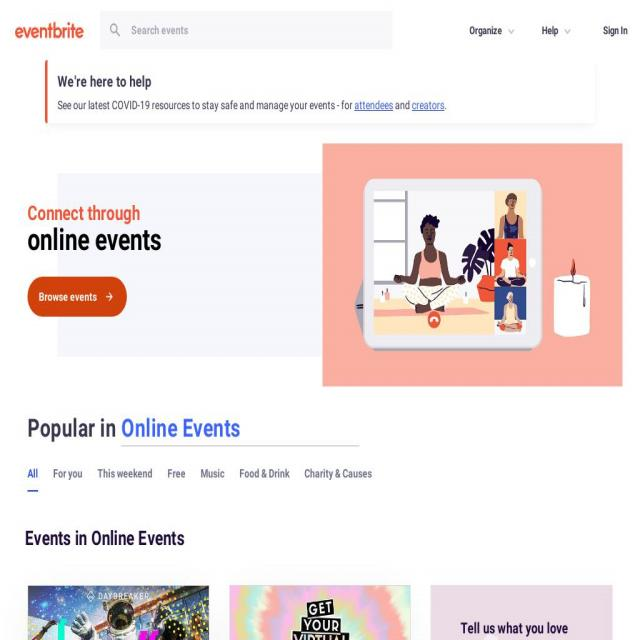login-option: (597, 19, 636, 50)
navigation-blocks: (18, 576, 619, 640)
navigation-links: (14, 458, 377, 490)
options: (464, 14, 582, 48)
search: (94, 6, 405, 57)
